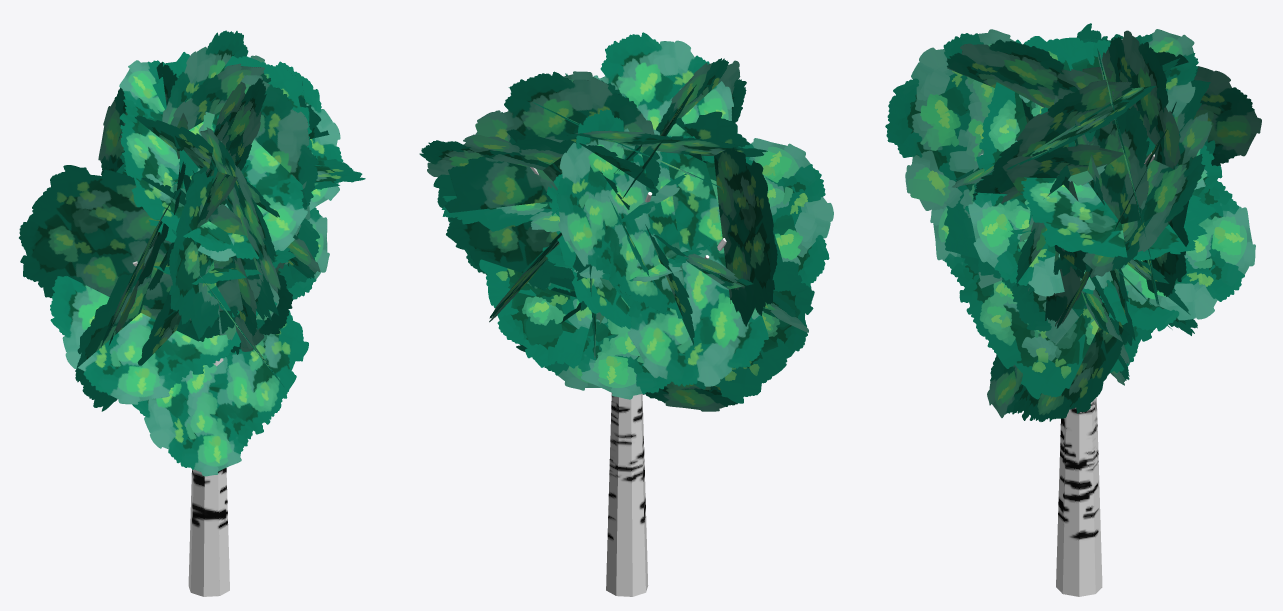
Rendered from tree2.1.fbx.
3 renders of one model, left to right at view 1: azimuth 30°, elevation 25°; view 2: azimuth 150°, elevation 25°; view 3: azimuth 270°, elevation 25°, orthographic. The views are drawn at different scales.
Parts seen in each view (by area): view 1: leafs.030, tree; view 2: leafs.030, tree; view 3: leafs.030, tree.
Boxes of the visible parts, x1,y1,x2,y2 form: leafs.030: [19, 30, 365, 476]; tree: [133, 261, 229, 596]; leafs.030: [419, 32, 833, 411]; tree: [530, 167, 726, 596]; leafs.030: [885, 23, 1261, 421]; tree: [980, 152, 1154, 596].
Size of the model in its own units: 1175 by 1741 by 1070.
